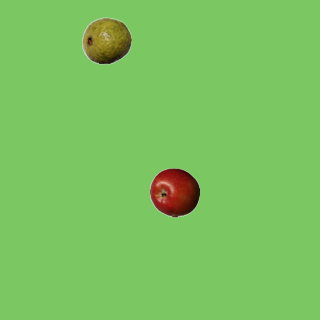Apple Braeburn: (149, 167, 199, 217)
Guava: (81, 15, 131, 65)
